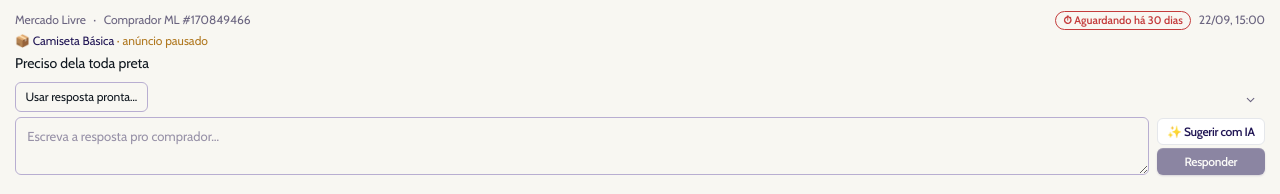
pré-venda: anúncio, espera e respostas prontas › escolher resposta pronta põe o texto no campo e NÃO envia
Select "Prazo de envio" in the dropdown with test id "mkt-pergunta-pronta". click: {"x": 81, "y": 97}
box: 15,82 -> 148,112
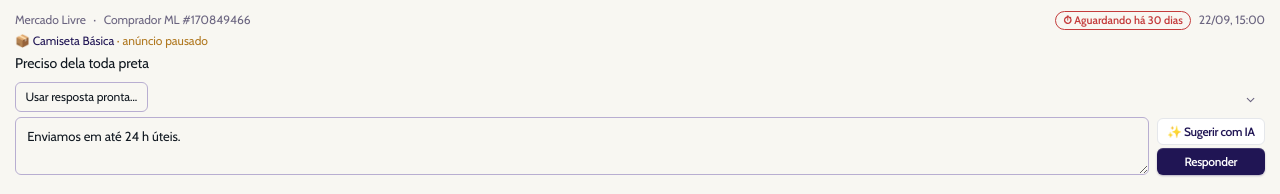
expect the text box with test id "mkt-pergunta-texto" holds "Enviamos em até 24 h úteis.": met, box 15,118 -> 1149,175
